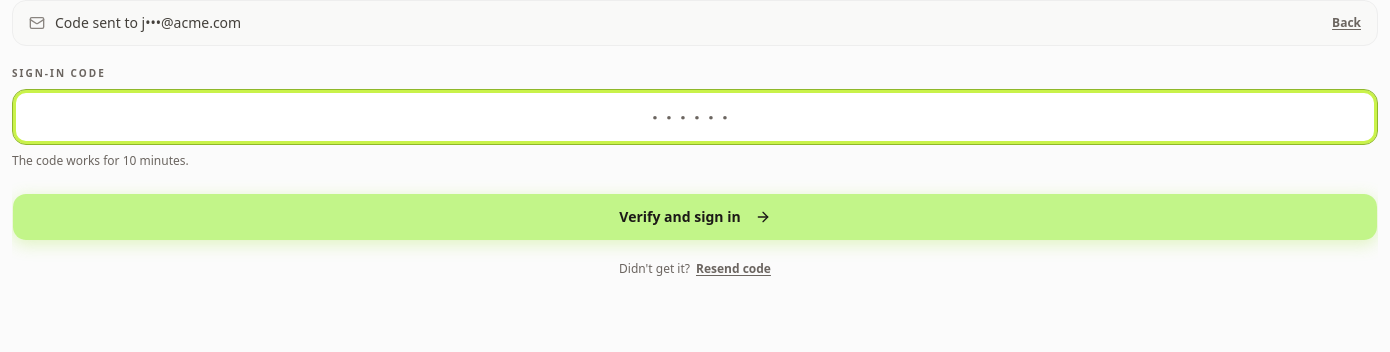
CodeStep › resending › sends a new code, says so, and starts the cooldown again
Type "123" into the field labelled "Sign-in code".
click(695, 117); type("123")  # box [12, 89, 1378, 145]
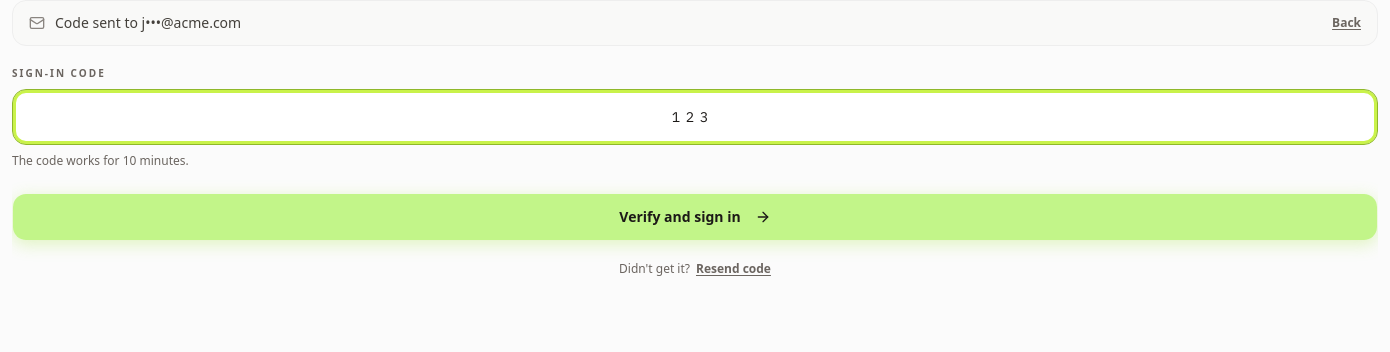
Click the button "Resend code".
click(734, 269)  # box [696, 261, 771, 277]
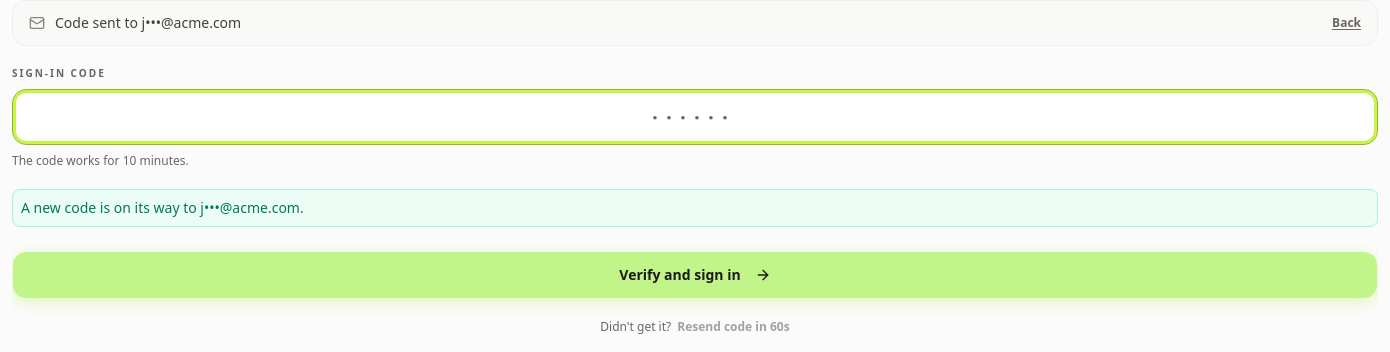
Expected: the text "A new code is on its way to j•••@acme.com." is shown, [12, 189, 1378, 227]
Expected: the field labelled "Sign-in code" is empty, [12, 89, 1378, 145]
Expected: the button with aria-label "Resend code in 60 seconds" is disabled, [677, 319, 790, 335]
